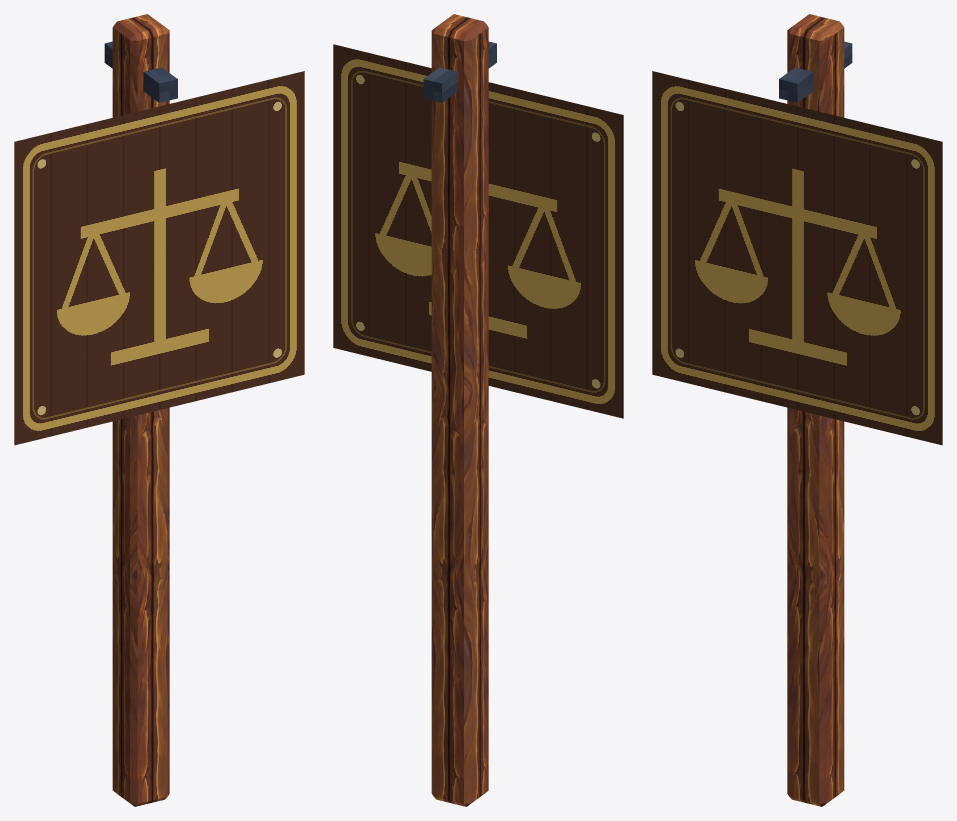
Rendered from Shop_Sign.fbx.
3 views of the same model, side by side, from view 1: azimuth 30°, elevation 25°; view 2: azimuth 150°, elevation 25°; view 3: azimuth 330°, elevation 25° (orthographic).
Visible parts, largest first — view 1: Shop_Sign.001; view 2: Shop_Sign.001; view 3: Shop_Sign.001.
Boxes of the visible parts, <box> form: Shop_Sign.001: <box>14,14,304,806</box>; Shop_Sign.001: <box>333,14,623,806</box>; Shop_Sign.001: <box>652,14,942,806</box>.
Size of the model in its own units: 110 by 280 by 36.
3 materials, 3 textured.
